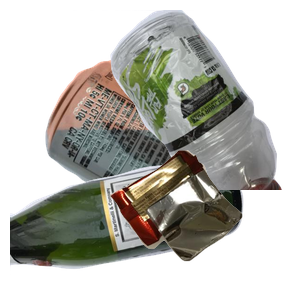glass: (10, 154, 246, 300)
metal: (43, 58, 283, 238)
plastic: (73, 10, 300, 190)
trash: (107, 148, 300, 300)
